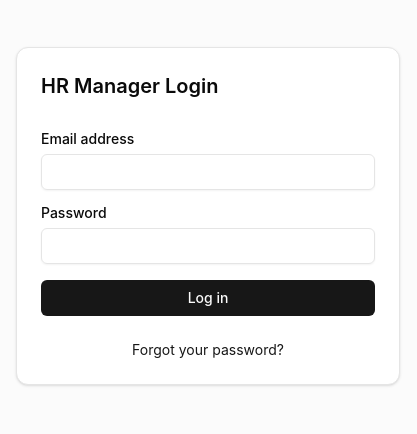
LoginPage › shows a generic invalid-credentials message on failed login without naming which field was wrong
Type "hr.manager@acme.test" into the field labelled "Email address" at point(208, 172), box left=41, top=154, right=375, bottom=190
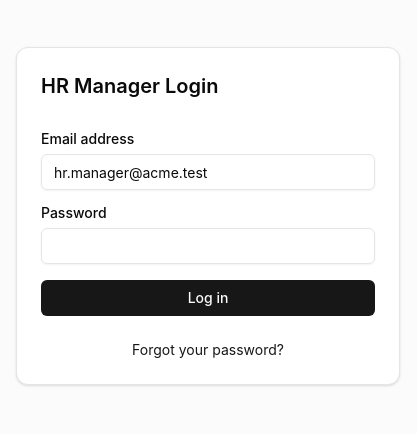
Type "wrong-password" into the password field labelled "Password" at point(208, 246), box left=41, top=228, right=375, bottom=264
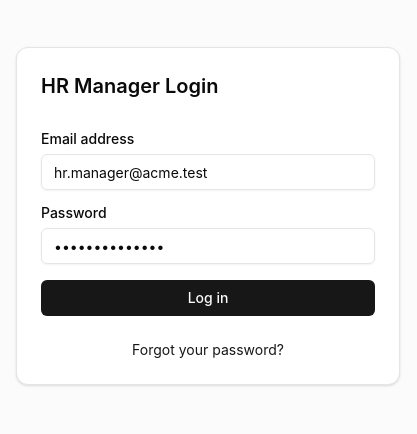
Click the button "Log in" at point(208, 298), box left=41, top=280, right=375, bottom=316
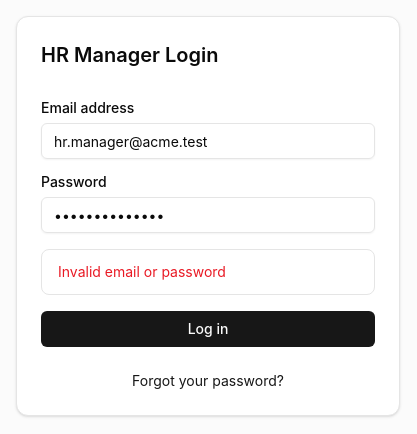
Expected: the text "Invalid email or password" is shown, left=58, top=263, right=226, bottom=280
